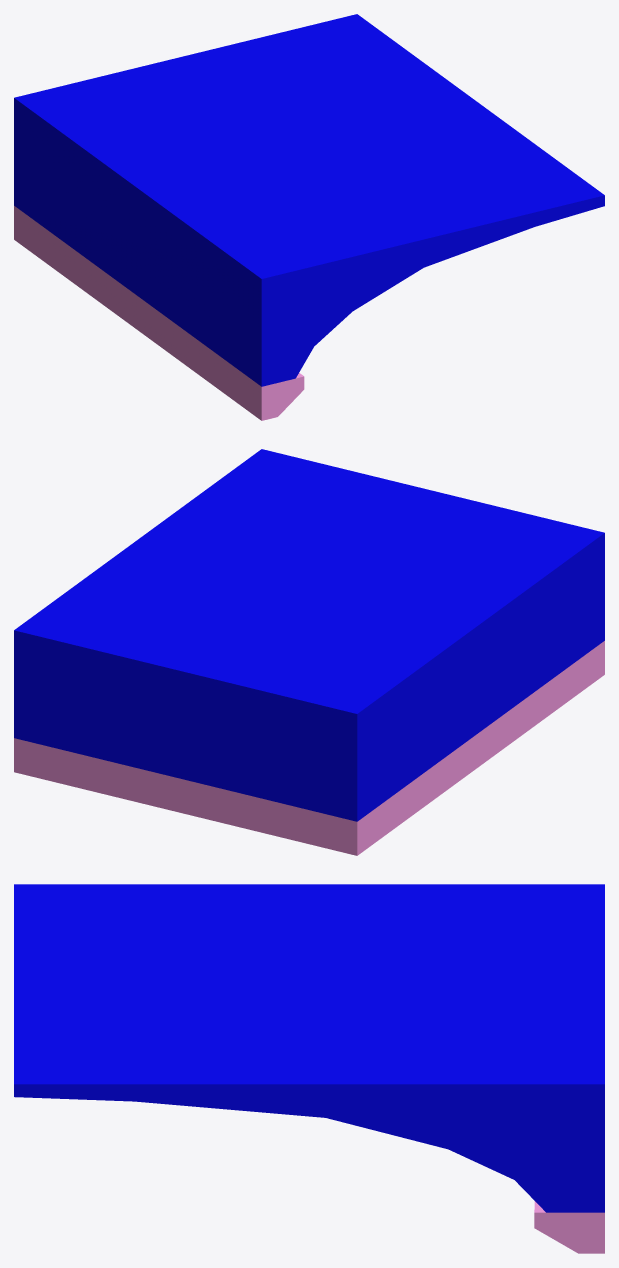
Rendered from Dungeon_architechture roofs.fbx.
3 views of the same model, one above another, from view 1: azimuth 30°, elevation 25°; view 2: azimuth 150°, elevation 25°; view 3: azimuth 270°, elevation 25° (orthographic). The views are drawn at different scales.
Visible parts, largest first — view 1: Dungeon_Roof_front_outter_corner, Dungeon_Roof_flat, Dungeon_Roof_front_Inner_corner, Dungeon_Roof_side_outter_corner, Dungeon_Roof_side, Dungeon_Roof_border_corner, Dungeon_Roof_front, Dungeon_Roof_border_side; view 2: Dungeon_Roof_front_outter_corner, Dungeon_Roof_front, Dungeon_Roof_front_Inner_corner, Dungeon_Roof_border_corner, Dungeon_Roof_flat, Dungeon_Roof_front_broken_1, Dungeon_Roof_side, Dungeon_Roof_side_outter_corner; view 3: Dungeon_Roof_front_outter_corner, Dungeon_Roof_front, Dungeon_Roof_flat, Dungeon_Roof_front_Inner_corner, Dungeon_Roof_front_broken_1, Dungeon_Roof_side_outter_corner, Dungeon_Roof_side, Dungeon_Roof_border_corner.
Boxes of the visible parts, x1,y1,x2,y2 form: Dungeon_Roof_front_outter_corner: (14,14,604,273); Dungeon_Roof_flat: (19,66,604,289); Dungeon_Roof_front_Inner_corner: (14,103,604,386); Dungeon_Roof_side_outter_corner: (14,82,596,281); Dungeon_Roof_side: (254,14,603,385); Dungeon_Roof_border_corner: (14,206,304,420); Dungeon_Roof_front: (14,103,261,288); Dungeon_Roof_border_side: (261,373,303,420); Dungeon_Roof_front_outter_corner: (15,450,603,821); Dungeon_Roof_front: (14,535,604,821); Dungeon_Roof_front_Inner_corner: (14,454,604,820); Dungeon_Roof_border_corner: (14,641,604,855); Dungeon_Roof_flat: (14,449,604,724); Dungeon_Roof_front_broken_1: (117,453,597,819); Dungeon_Roof_side: (14,449,364,820); Dungeon_Roof_side_outter_corner: (14,450,600,746); Dungeon_Roof_front_outter_corner: (14,884,604,1096); Dungeon_Roof_front: (14,1084,604,1212); Dungeon_Roof_flat: (14,884,604,1096); Dungeon_Roof_front_Inner_corner: (14,1084,604,1212); Dungeon_Roof_front_broken_1: (14,1084,604,1212); Dungeon_Roof_side_outter_corner: (14,884,602,1177); Dungeon_Roof_side: (14,1018,604,1096); Dungeon_Roof_border_corner: (534,1201,604,1253).
Size of the model in its own units: 400 by 158 by 500.
